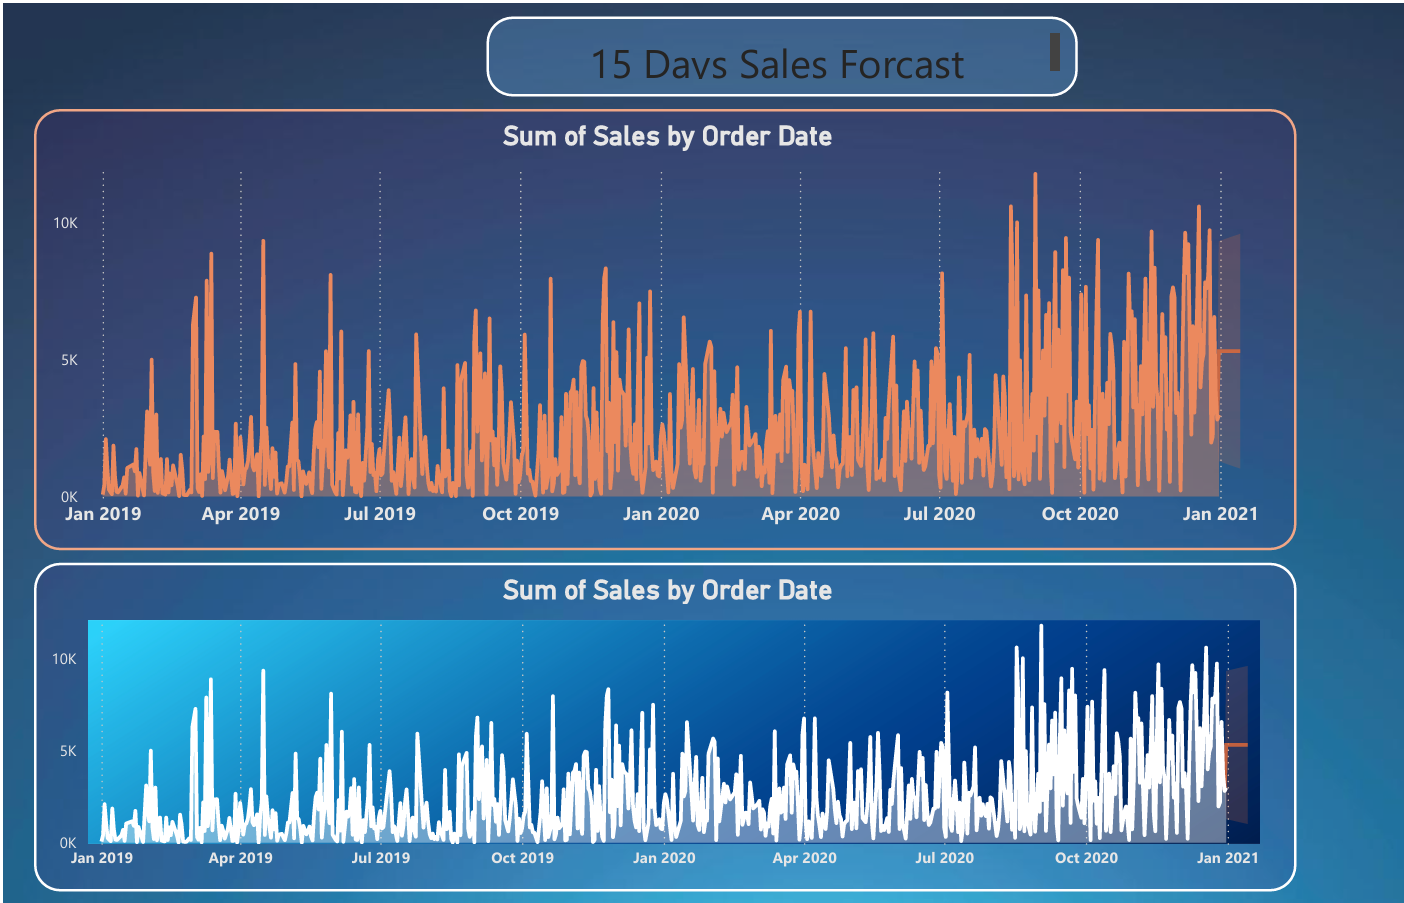

The dashboard page shown, as its layout file describes it:
{"tool":"powerbi","page":{"name":"Page 2","canvas":[1280,720],"ordinal":1},"visuals":[{"type":"lineChart","fields":{"Y":["Sum(SuperStore_Sales_Dataset.Sales)"],"Category":["SuperStore_Sales_Dataset.Order Date"]},"box":[24.3,447.1,1010,262.9],"z":0},{"type":"lineChart","fields":{"Y":["Sum(SuperStore_Sales_Dataset.Sales)"],"Category":["SuperStore_Sales_Dataset.Order Date"]},"box":[24.3,84.3,1010,352.9],"z":1000},{"type":"textbox","box":[385.7,10,472.9,64.3],"z":1001}]}

Visuals, with their boxes on the page's 1280x720 design canvas (x1, y1, x2, y2). These are canvas units, not pixel positions in the 1404x903 screenshot, which may show the page scaled, cropped or inside an application window:
lineChart - Sum(SuperStore_Sales_Dataset.Sales) x SuperStore_Sales_Dataset.Order Date: x1=24, y1=447, x2=1034, y2=710
lineChart - Sum(SuperStore_Sales_Dataset.Sales) x SuperStore_Sales_Dataset.Order Date: x1=24, y1=84, x2=1034, y2=437
textbox: x1=386, y1=10, x2=859, y2=74
